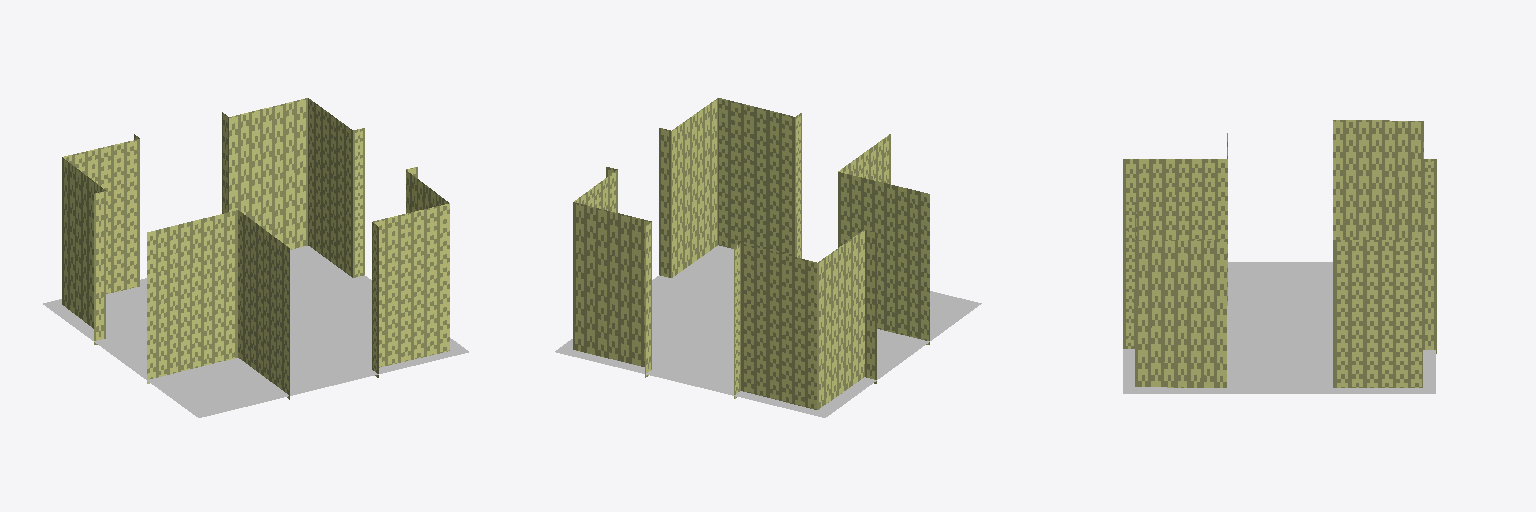
3 renders of one model, left to right at view 1: azimuth 30°, elevation 25°; view 2: azimuth 150°, elevation 25°; view 3: azimuth 270°, elevation 25°, orthographic.
Parts seen in each view (by area): view 1: Cube.003_Cube.007, Plane, Cube_Cube.001, Cube.002_Cube.005, Cube.001_Cube.006; view 2: Cube.001_Cube.006, Cube.002_Cube.005, Plane, Cube_Cube.001, Cube.003_Cube.007; view 3: Plane, Cube.002_Cube.005, Cube_Cube.001, Cube.001_Cube.006, Cube.003_Cube.007.
Boxes of the visible parts, <box> form: Cube.003_Cube.007: <box>147,210,289,399</box>; Plane: <box>43,246,468,417</box>; Cube_Cube.001: <box>222,98,364,277</box>; Cube.002_Cube.005: <box>372,167,449,377</box>; Cube.001_Cube.006: <box>62,134,139,344</box>; Cube.001_Cube.006: <box>734,230,876,409</box>; Cube.002_Cube.005: <box>659,98,801,277</box>; Plane: <box>555,245,981,417</box>; Cube_Cube.001: <box>573,167,651,377</box>; Cube.003_Cube.007: <box>838,134,929,344</box>; Plane: <box>1123,262,1435,393</box>; Cube.002_Cube.005: <box>1123,202,1226,387</box>; Cube_Cube.001: <box>1333,202,1436,387</box>; Cube.001_Cube.006: <box>1333,120,1436,239</box>; Cube.003_Cube.007: <box>1123,133,1227,305</box>.
Bounding box in the file's own units: 12 × 6.41 × 12.03.
5 materials, 1 textured.